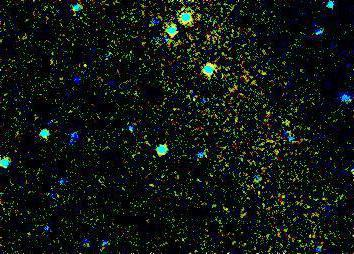star: (68, 50, 98, 80)
